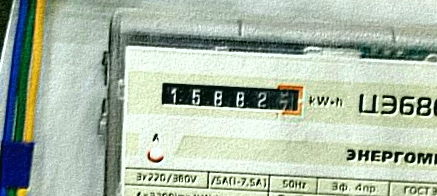1: (168, 86, 179, 104)
2: (255, 90, 268, 109)
5: (190, 88, 202, 106)
7: (277, 99, 289, 111)
8: (211, 89, 224, 107), (233, 90, 246, 108)
screen: (152, 71, 310, 124)
